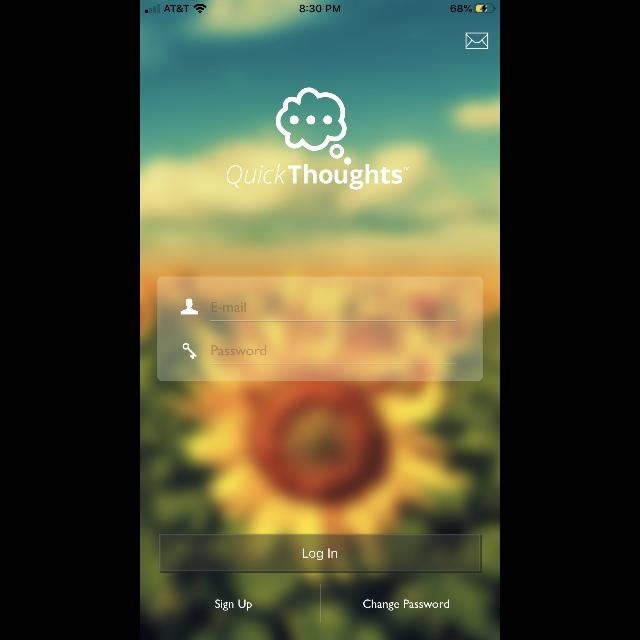icon: (466, 32, 488, 49), (182, 299, 198, 315)
image: (226, 88, 410, 190), (183, 342, 197, 360)
input: (211, 302, 457, 322), (210, 345, 456, 365)
text: (363, 599, 449, 611), (212, 344, 266, 356), (215, 599, 252, 611), (212, 302, 246, 312)
textbutton: (160, 534, 482, 572)
uppertaskbar: (140, 0, 500, 14)
